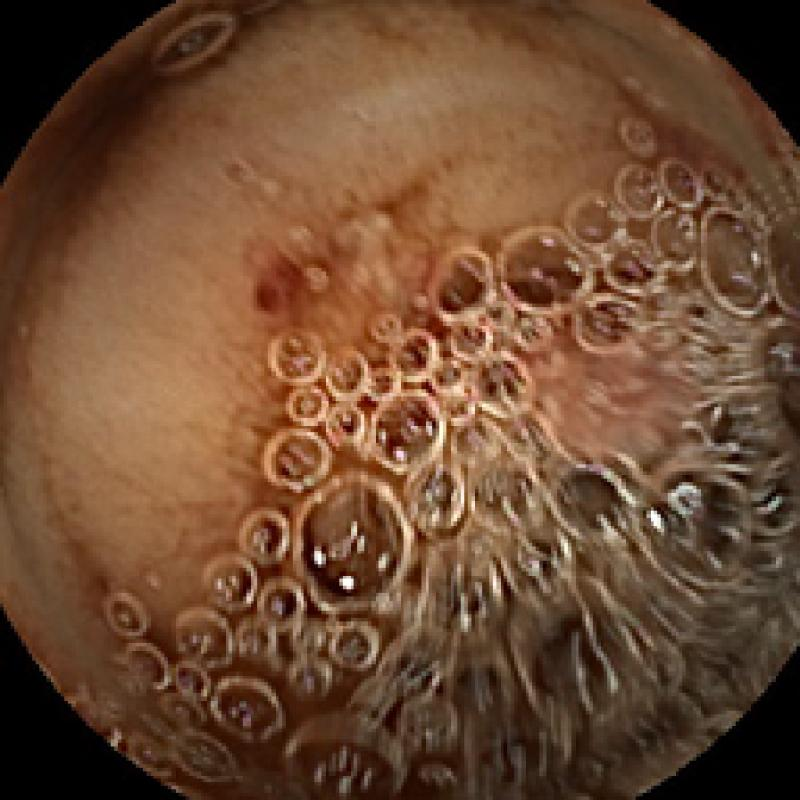bleeding: (337, 253, 621, 443), (254, 239, 332, 304)
